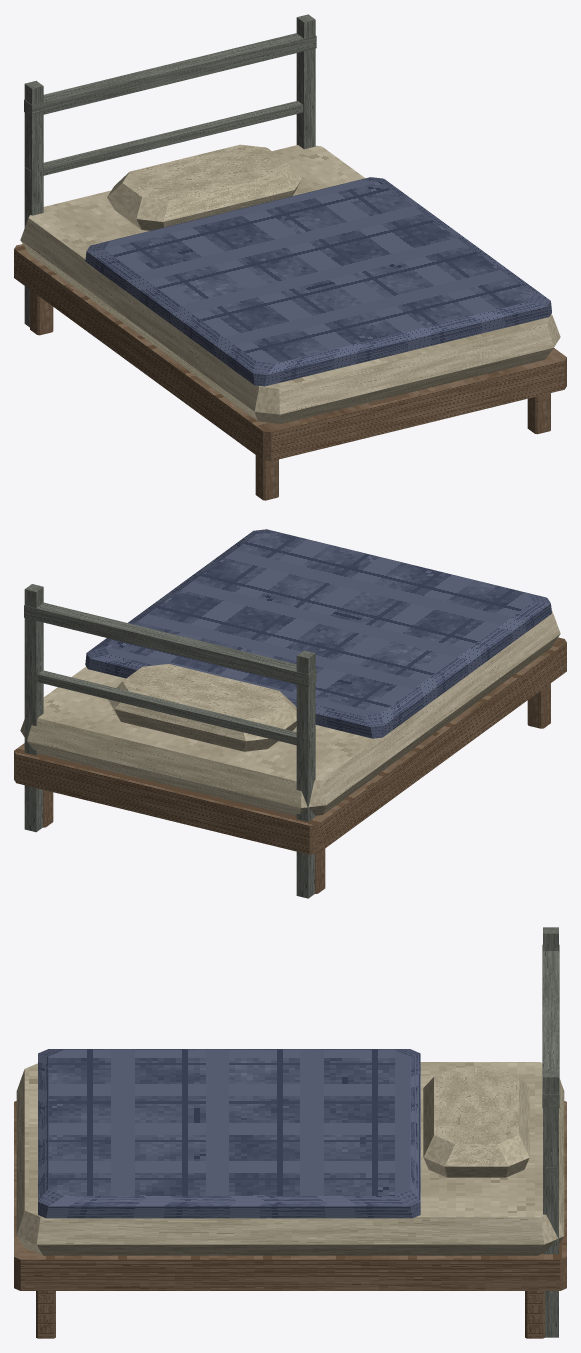
The model's file is bed.glb.
3 renders of one model, top to bottom at view 1: azimuth 30°, elevation 25°; view 2: azimuth 150°, elevation 25°; view 3: azimuth 270°, elevation 25°, orthographic. The views are drawn at different scales.
Parts seen in each view (by area): view 1: Body; view 2: Body; view 3: Body.
Boxes of the visible parts, x1,y1,x2,y2 form: Body: (14, 14, 566, 500); Body: (14, 529, 566, 898); Body: (14, 927, 566, 1338).
Size of the model in its own units: 1.44 by 1.08 by 2.08.
Materials: 1 (1 with a texture image).
